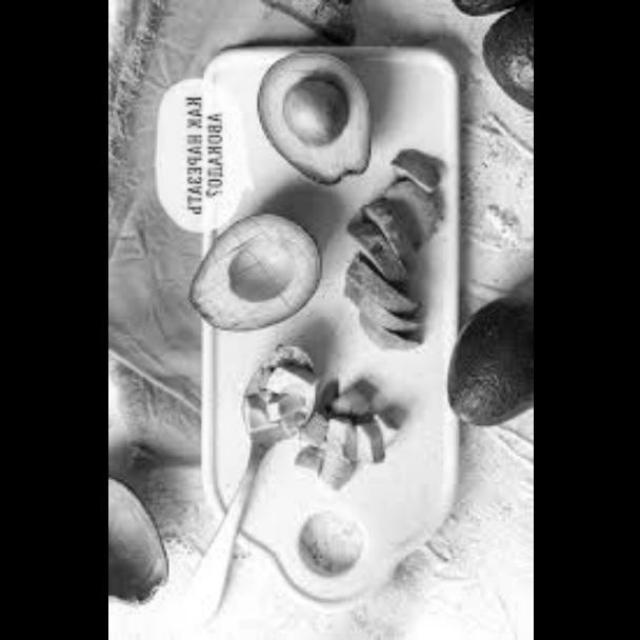bo: (324, 110, 436, 368), (230, 344, 402, 488), (246, 32, 375, 181), (194, 201, 326, 344)
